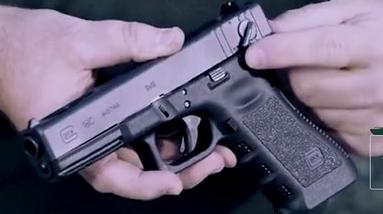gun: (1, 1, 383, 214)
